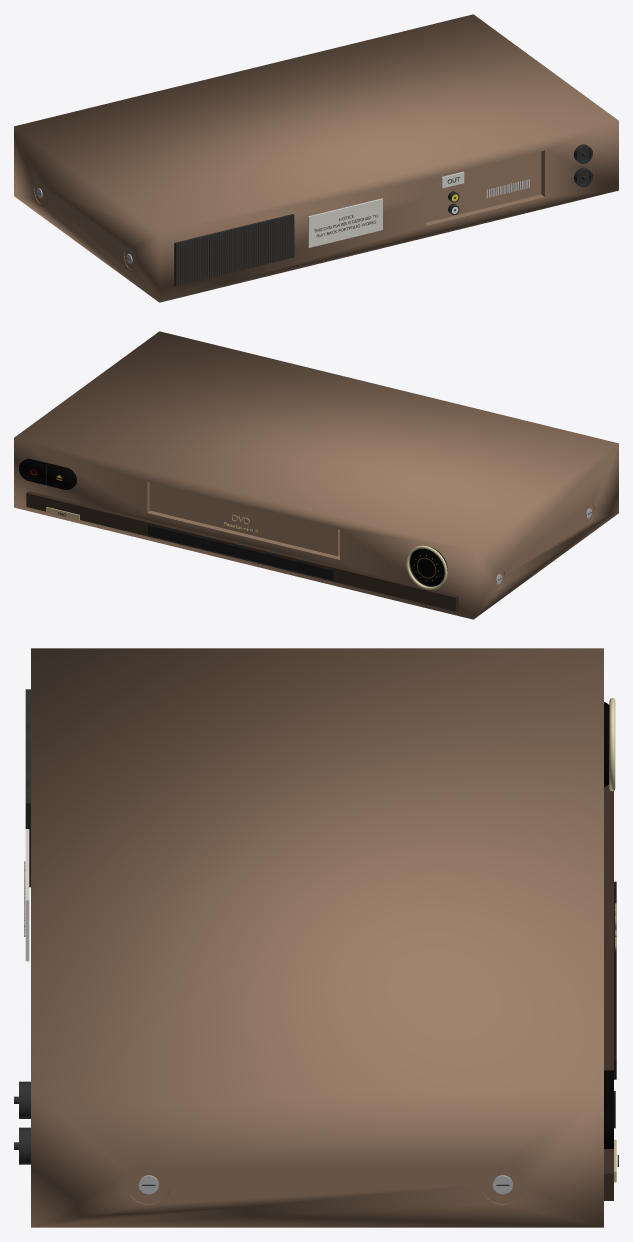
The model's file is dvd-player.glb.
3 views of the same model, one above another, from view 1: azimuth 30°, elevation 25°; view 2: azimuth 150°, elevation 25°; view 3: azimuth 270°, elevation 25° (orthographic). The views are drawn at different scales.
Parts seen in each view (by area): view 1: DVD_Body, DVD_BackVents, DVD_RatingLabel; view 2: DVD_Body, DVD_Tray_FrontPanel, DVD_BottomStrip, DVD_Screen, DVD_PowerEjectHousing, DVD_DecorDial, DVD_DecorDial_Rim; view 3: DVD_Body, DVD_BottomStrip, DVD_BackVents, DVD_PowerEjectHousing.
Boxes of the visible parts, x1,y1,x2,y2 form: DVD_Body: [14, 14, 618, 302]; DVD_BackVents: [174, 214, 294, 286]; DVD_RatingLabel: [308, 198, 382, 247]; DVD_Body: [14, 331, 618, 619]; DVD_Tray_FrontPanel: [149, 482, 339, 556]; DVD_BottomStrip: [26, 491, 458, 611]; DVD_Screen: [148, 524, 333, 580]; DVD_PowerEjectHousing: [19, 458, 76, 489]; DVD_DecorDial: [410, 546, 447, 586]; DVD_DecorDial_Rim: [406, 545, 447, 589]; DVD_Body: [31, 648, 603, 1227]; DVD_BottomStrip: [604, 784, 613, 1200]; DVD_BackVents: [25, 689, 30, 887]; DVD_PowerEjectHousing: [604, 1070, 613, 1148].
Size of the model in its own units: 0.6222 by 0.099 by 0.3589.
29 materials, 3 textured.
